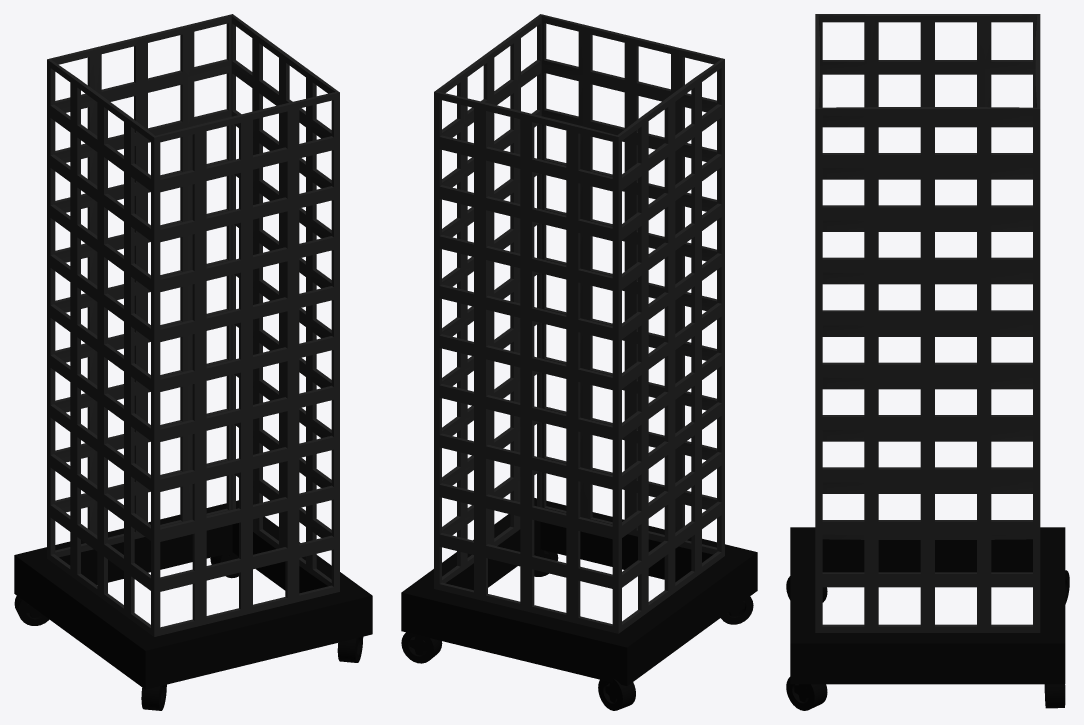
File: Shelf_03_Square_Medium.glb
The picture shows the model from 3 angles, left to right: view 1: azimuth 30°, elevation 25°; view 2: azimuth 150°, elevation 25°; view 3: azimuth 270°, elevation 25°; orthographic projection. The views are drawn at different scales.
Visible parts, largest first — view 1: Mesh_Shelf_03_Square_Medium; view 2: Mesh_Shelf_03_Square_Medium; view 3: Mesh_Shelf_03_Square_Medium.
Boxes of the visible parts, <box> form: Mesh_Shelf_03_Square_Medium: <box>14,14,372,710</box>; Mesh_Shelf_03_Square_Medium: <box>401,14,757,710</box>; Mesh_Shelf_03_Square_Medium: <box>786,14,1069,710</box>.
Bounding box in the file's own units: 0.6246 × 1.46 × 0.6307.
Materials: 1 (1 with a texture image).
